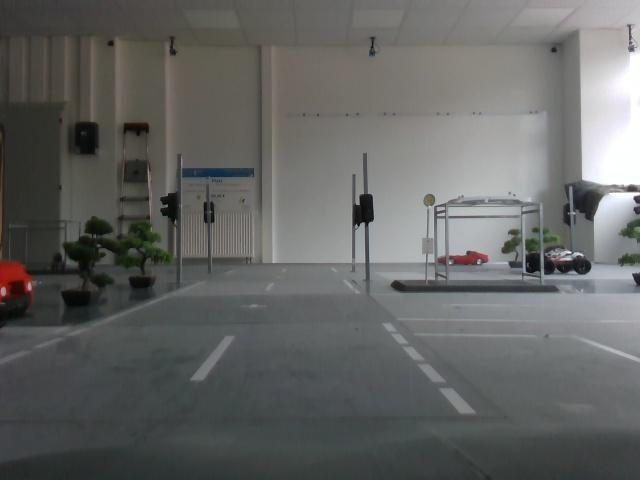car: (2, 254, 43, 327), (526, 246, 598, 281), (438, 245, 491, 267)
potted plant: (57, 217, 113, 309), (123, 221, 168, 297), (619, 211, 640, 281)
traffic light: (165, 190, 183, 226), (356, 193, 374, 225)
